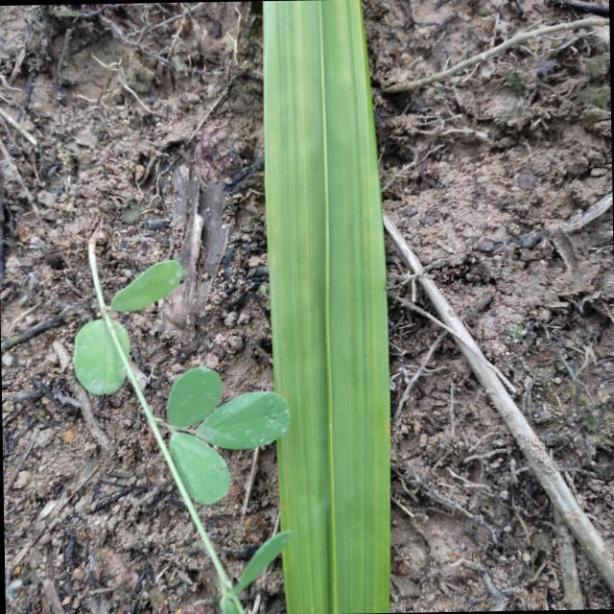nitrogen: (262, 0, 397, 614)
